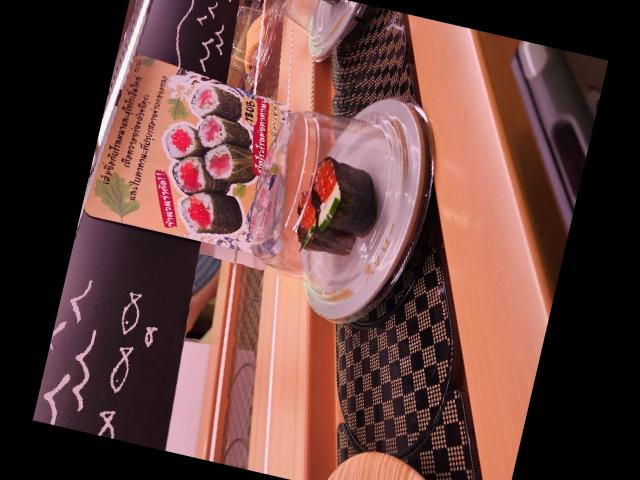janred: (244, 2, 290, 88)
janwhite: (306, 58, 460, 336), (289, 0, 389, 70)
